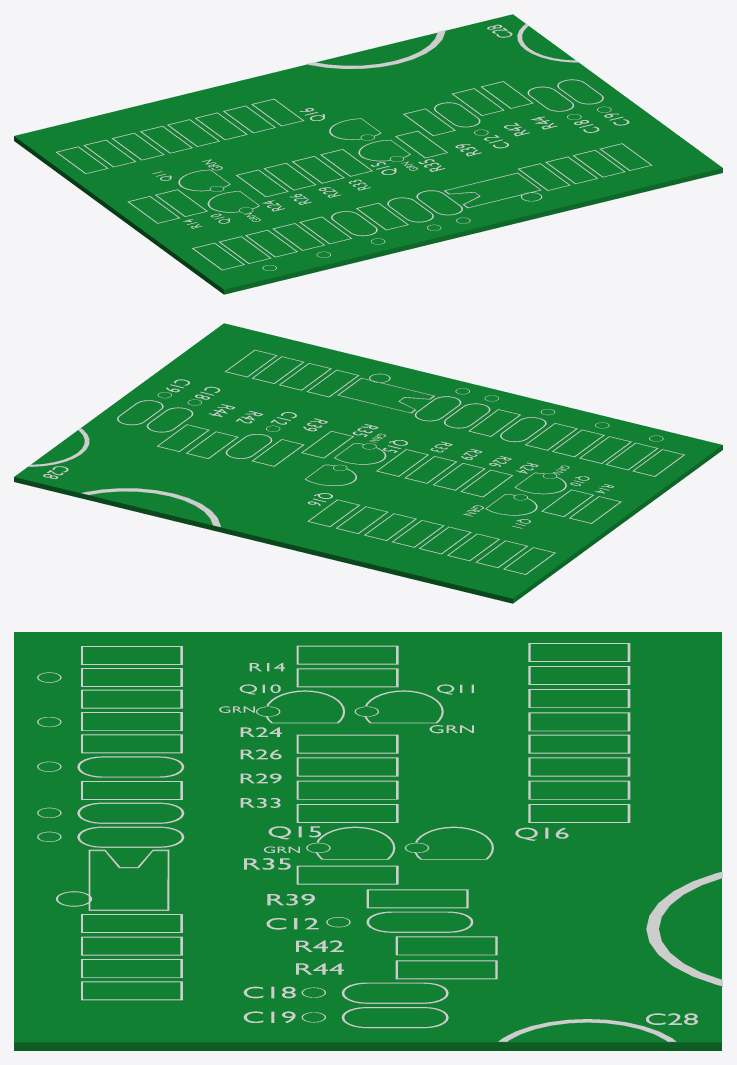
The model's file is ecb_board.gltf.
3 renders of one model, top to bottom at view 1: azimuth 30°, elevation 25°; view 2: azimuth 150°, elevation 25°; view 3: azimuth 270°, elevation 25°, orthographic. The views are drawn at different scales.
Visible parts, largest first — view 1: board, Cylinder.009; view 2: board, Cylinder.009; view 3: board, Cylinder.009, Cylinder.008, Cube.003.
Part boxes in pixels (x1,y1,x2,y2): board: [14, 14, 722, 294]; Cylinder.009: [306, 30, 445, 68]; board: [14, 323, 722, 603]; Cylinder.009: [81, 488, 220, 527]; board: [14, 632, 721, 1050]; Cylinder.009: [646, 871, 722, 986]; Cylinder.008: [498, 1019, 676, 1041]; Cube.003: [88, 849, 169, 910].
Bounding box in the file's own units: 0.3647 × 0.00402 × 0.2662.
